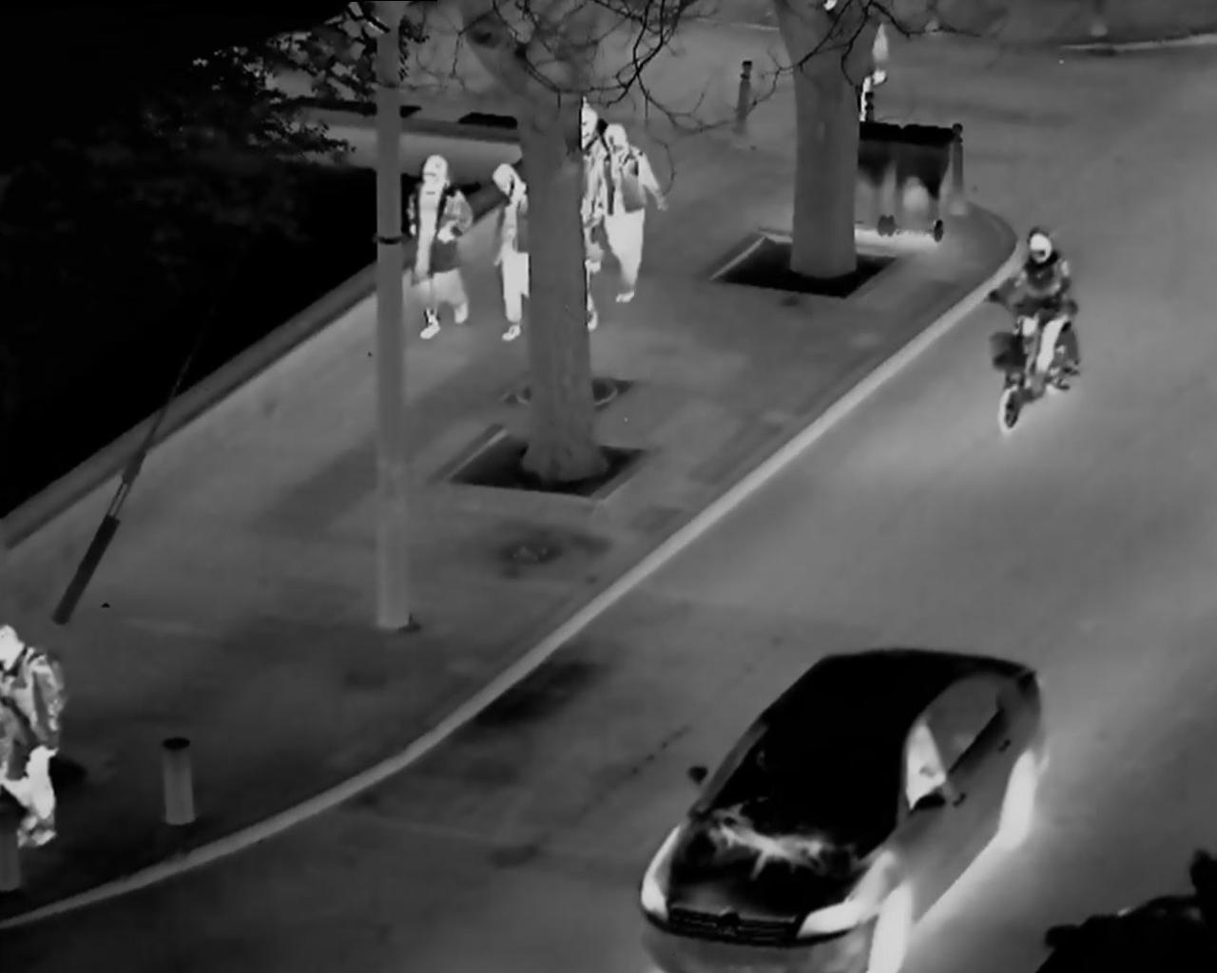person: (988, 223, 1083, 430), (403, 144, 475, 348), (592, 117, 668, 305), (482, 146, 530, 348)
